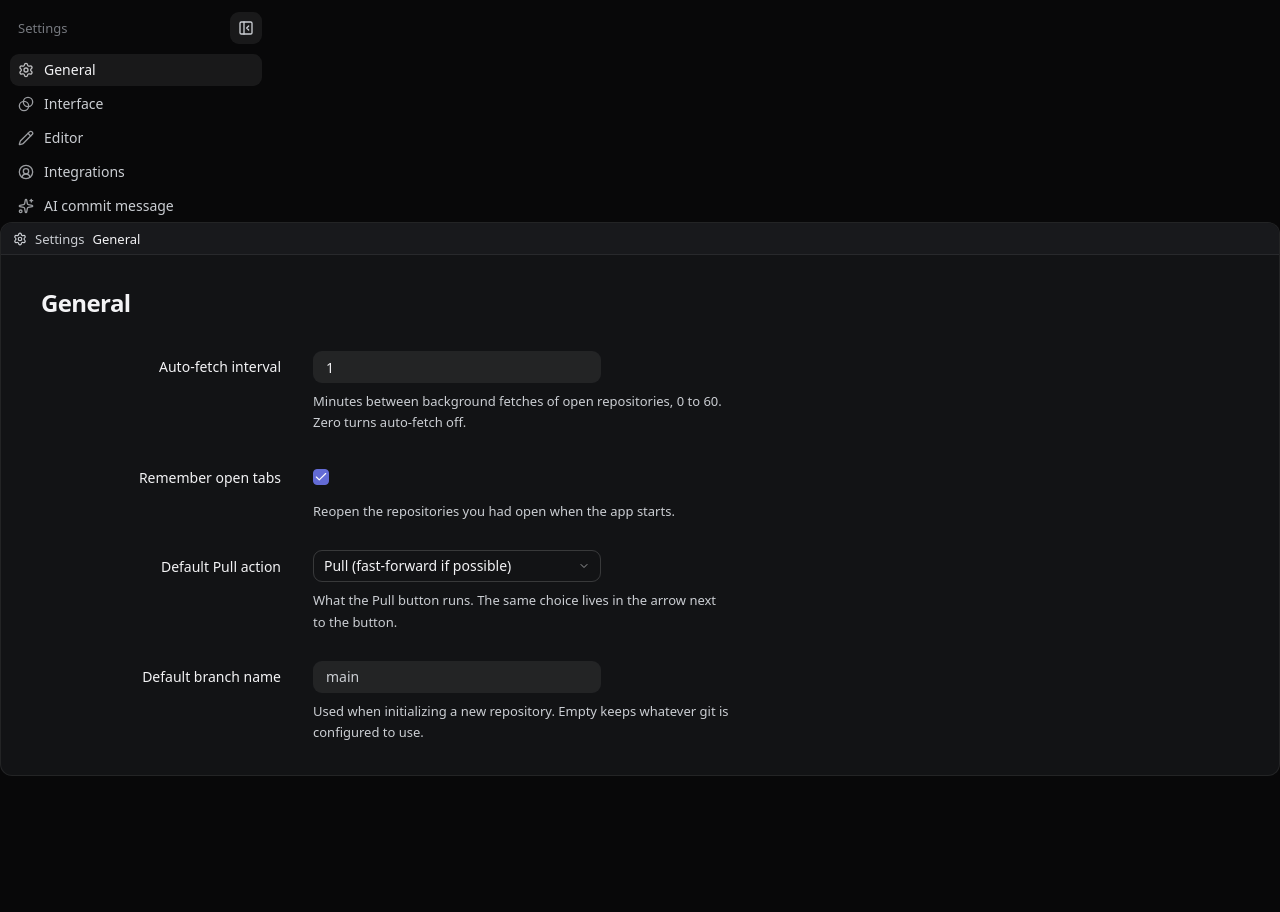
the AI section › an empty address tries both local ports in turn
The image size is (1280, 912).
Step 1. Click the button "AI commit message" → click(136, 206), box [10,190,262,222]
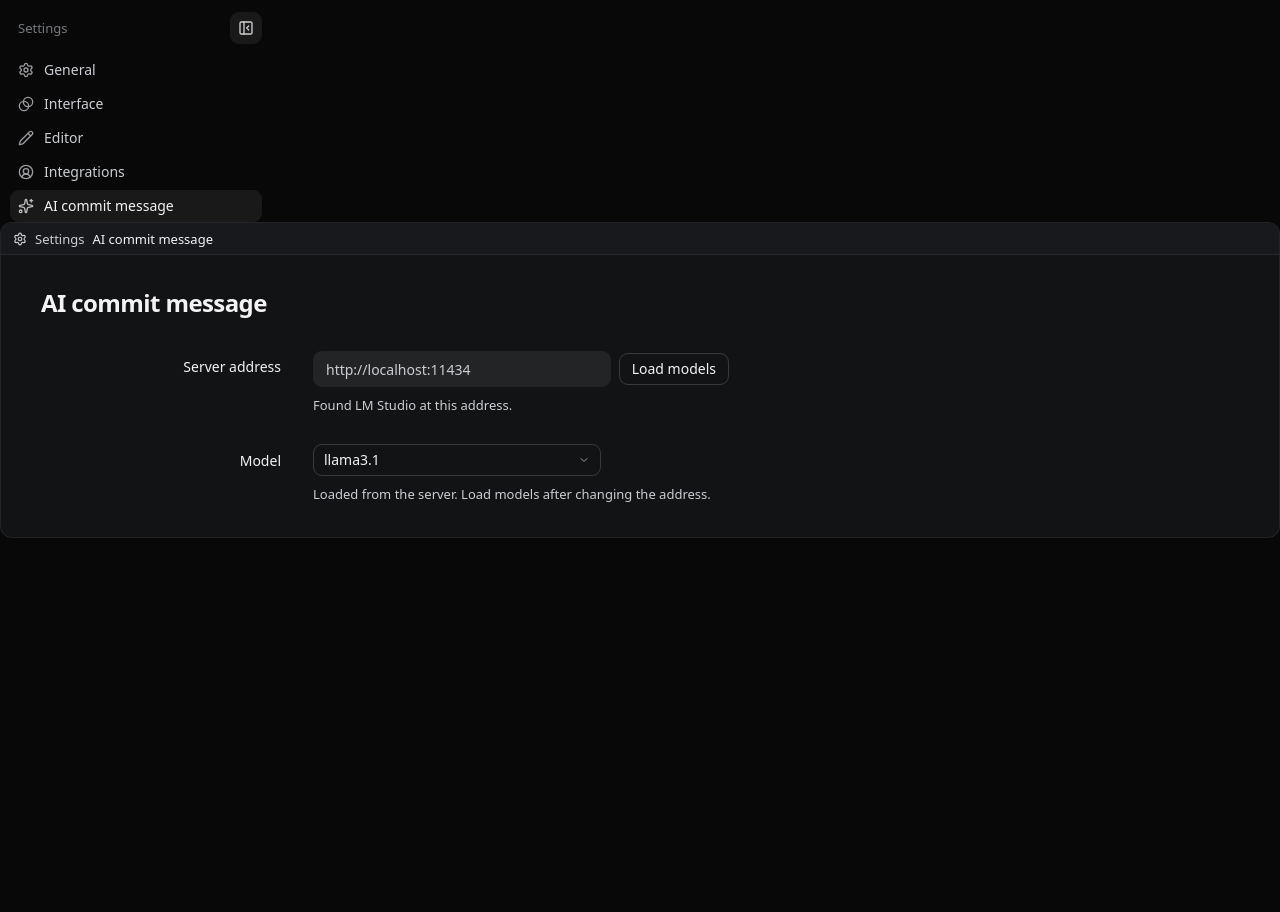
Expected: the button "llama3.1" is shown, [313,444,601,476]
